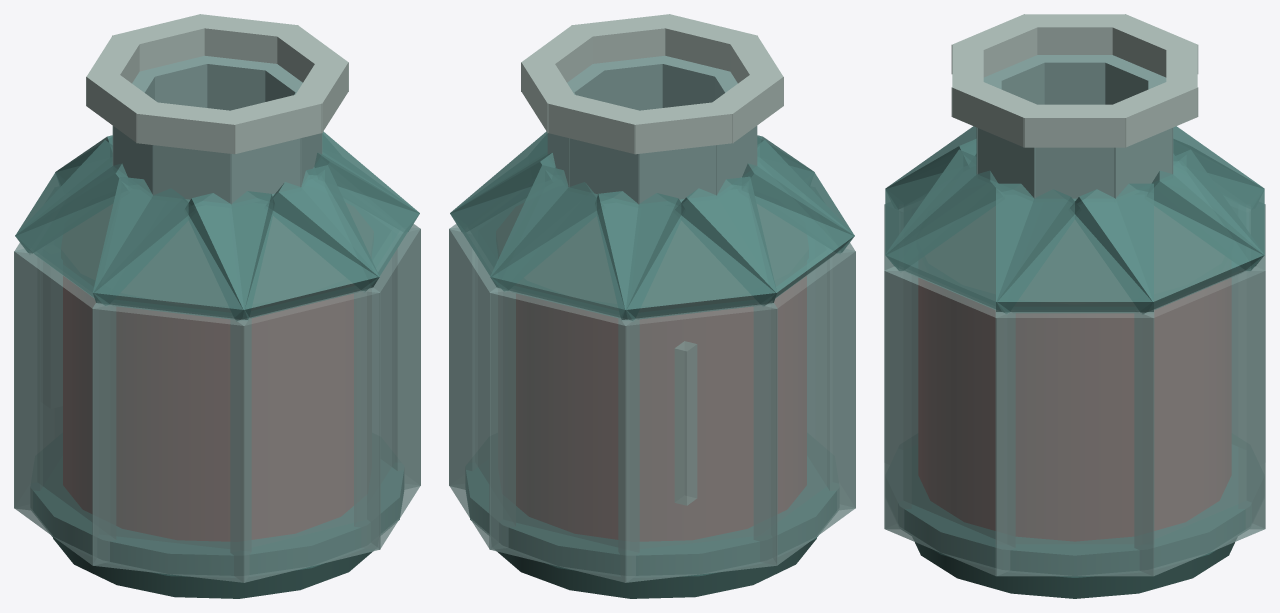
Rendered from CMU3DBottleBicaridineCloud.glb.
The picture shows the model from 3 angles, left to right: view 1: azimuth 30°, elevation 25°; view 2: azimuth 150°, elevation 25°; view 3: azimuth 270°, elevation 25°; orthographic projection.
Parts seen in each view (by area): view 1: static liquid volume level 5, hollow bottle wall 06, hollow bottle wall 07, hollow bottle wall 05, inward glass shoulder 06, inward glass shoulder 07, hollow bottle wall 08, inward glass shoulder 05, bottom glass welt, inward glass shoulder 08, hollow bottle wall 01, hollow bottle wall 04 (+19 smaller); view 2: static liquid volume level 5, hollow bottle wall 04, hollow bottle wall 03, hollow bottle wall 05, inward glass shoulder 04, inward glass shoulder 03, hollow bottle wall 02, inward glass shoulder 05, bottom glass welt, inward glass shoulder 02, hollow bottle wall 06, hollow bottle wall 01 (+20 smaller); view 3: static liquid volume level 5, hollow bottle wall 01, hollow bottle wall 02, hollow bottle wall 08, inward glass shoulder 01, inward glass shoulder 02, inward glass shoulder 08, bottom glass welt, inward glass shoulder 03, inward glass shoulder 07, hollow bottle wall 03, hollow bottle wall 07 (+19 smaller).
Part boxes in pixels (x1,y1,x2,y2): static liquid volume level 5: [63, 276, 353, 540]; hollow bottle wall 06: [92, 303, 251, 582]; hollow bottle wall 07: [230, 287, 380, 582]; hollow bottle wall 05: [14, 248, 115, 565]; inward glass shoulder 06: [92, 176, 274, 320]; inward glass shoulder 07: [185, 165, 379, 321]; hollow bottle wall 08: [354, 228, 420, 549]; inward glass shoulder 05: [15, 140, 194, 306]; bottom glass welt: [31, 456, 403, 577]; inward glass shoulder 08: [266, 131, 419, 292]; hollow bottle wall 01: [374, 224, 420, 489]; hollow bottle wall 04: [14, 243, 53, 510]; static liquid volume level 5: [516, 276, 806, 540]; hollow bottle wall 04: [618, 302, 777, 582]; hollow bottle wall 03: [489, 287, 639, 582]; hollow bottle wall 05: [754, 248, 855, 565]; inward glass shoulder 04: [595, 176, 777, 320]; inward glass shoulder 03: [490, 165, 684, 321]; hollow bottle wall 02: [449, 228, 515, 549]; inward glass shoulder 05: [675, 140, 854, 306]; bottom glass welt: [466, 456, 838, 577]; inward glass shoulder 02: [450, 131, 603, 292]; hollow bottle wall 06: [816, 243, 855, 510]; hollow bottle wall 01: [449, 224, 495, 489]; static liquid volume level 5: [919, 278, 1230, 540]; hollow bottle wall 01: [995, 310, 1154, 576]; hollow bottle wall 02: [1134, 266, 1265, 576]; hollow bottle wall 08: [884, 266, 1015, 576]; inward glass shoulder 01: [996, 183, 1153, 312]; inward glass shoulder 02: [1070, 149, 1264, 314]; inward glass shoulder 08: [885, 149, 1079, 314]; bottom glass welt: [898, 444, 1251, 577]; inward glass shoulder 03: [1147, 126, 1264, 271]; inward glass shoulder 07: [885, 126, 1002, 271]; hollow bottle wall 03: [1238, 205, 1265, 529]; hollow bottle wall 07: [884, 205, 911, 529].
Bounding box in the file's own units: 0.3387 × 0.453 × 0.3387.
